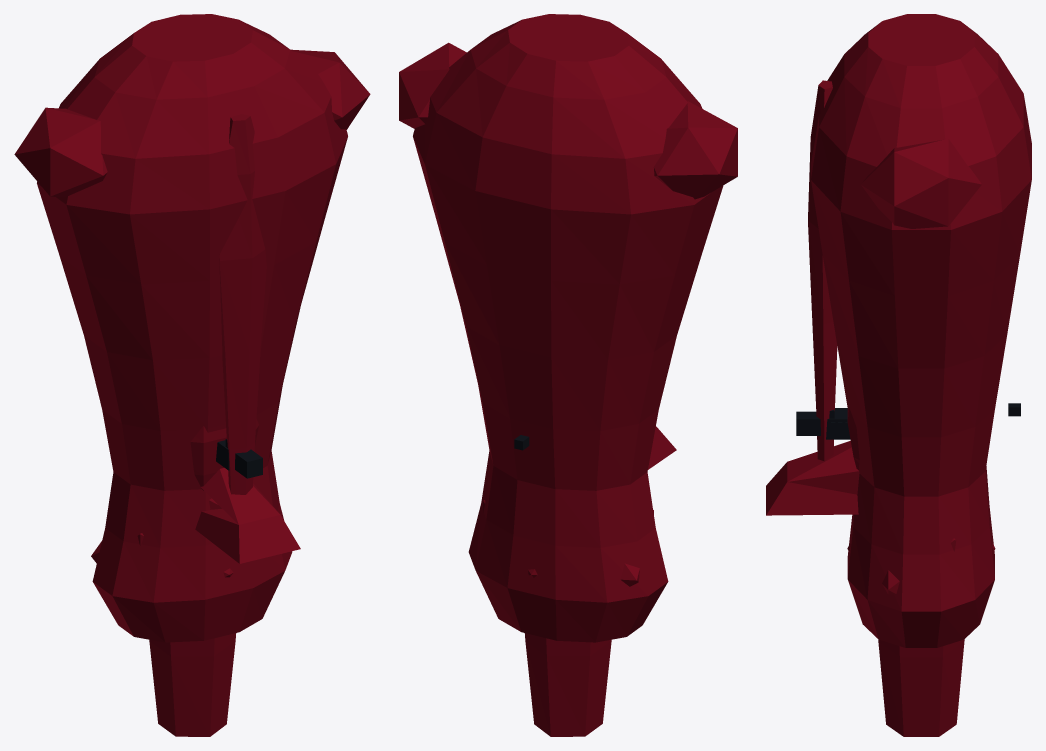
Rendered from enemy_parts.glb.
The picture shows the model from 3 angles, left to right: view 1: azimuth 30°, elevation 25°; view 2: azimuth 150°, elevation 25°; view 3: azimuth 270°, elevation 25°; orthographic projection.
Visible parts, largest first — view 1: torso, thigh_l, foot_l, head, enemy_gun; view 2: torso, thigh_l, foot_l; view 3: torso, thigh_l, foot_l, enemy_gun.
Boxes of the visible parts, bbox=[...] form: torso: bbox=[14, 14, 370, 642]; thigh_l: bbox=[149, 633, 236, 736]; foot_l: bbox=[195, 467, 300, 563]; head: bbox=[190, 419, 259, 509]; enemy_gun: bbox=[216, 439, 262, 478]; torso: bbox=[399, 14, 737, 642]; thigh_l: bbox=[524, 633, 611, 736]; foot_l: bbox=[648, 426, 676, 469]; torso: bbox=[808, 14, 1031, 647]; thigh_l: bbox=[878, 639, 964, 736]; foot_l: bbox=[766, 441, 859, 515]; enemy_gun: bbox=[796, 403, 1020, 439].
Bounding box in the file's own units: 0.5367 × 1.07 × 0.3765.
